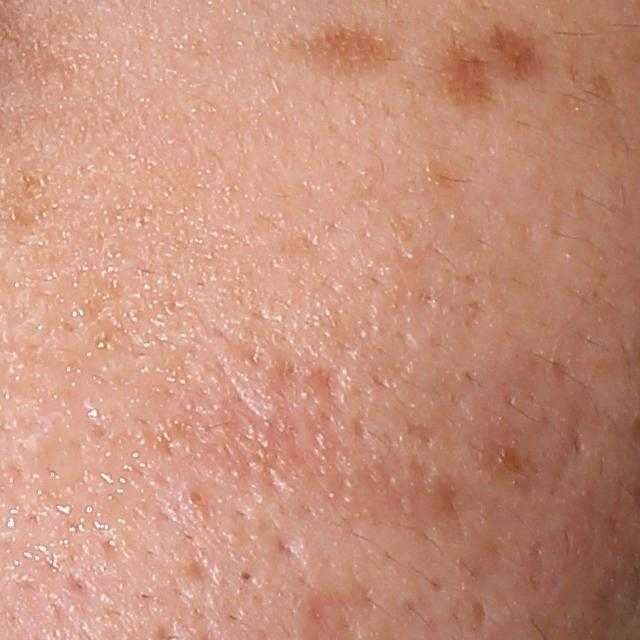atrophic_scar: (127, 325, 482, 593), (373, 322, 423, 394), (184, 551, 231, 598), (574, 432, 586, 459)
comedo: (183, 485, 209, 507)
melasma: (265, 150, 522, 335), (450, 22, 562, 120), (288, 22, 404, 82), (562, 64, 617, 104)
